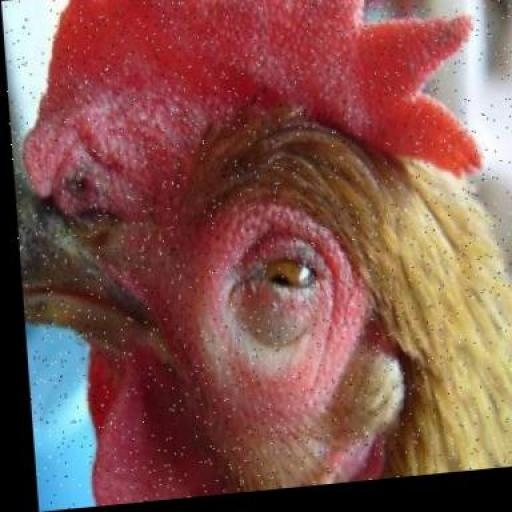disease: (235, 207, 342, 352)
